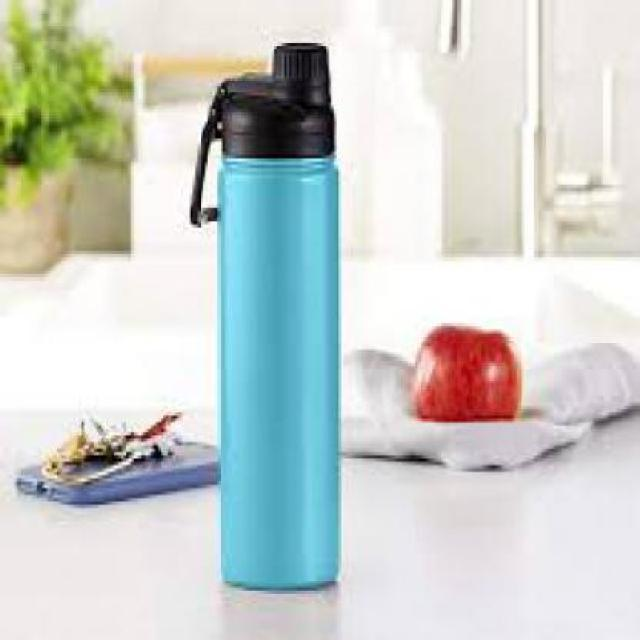Drinking: (192, 19, 366, 604)
